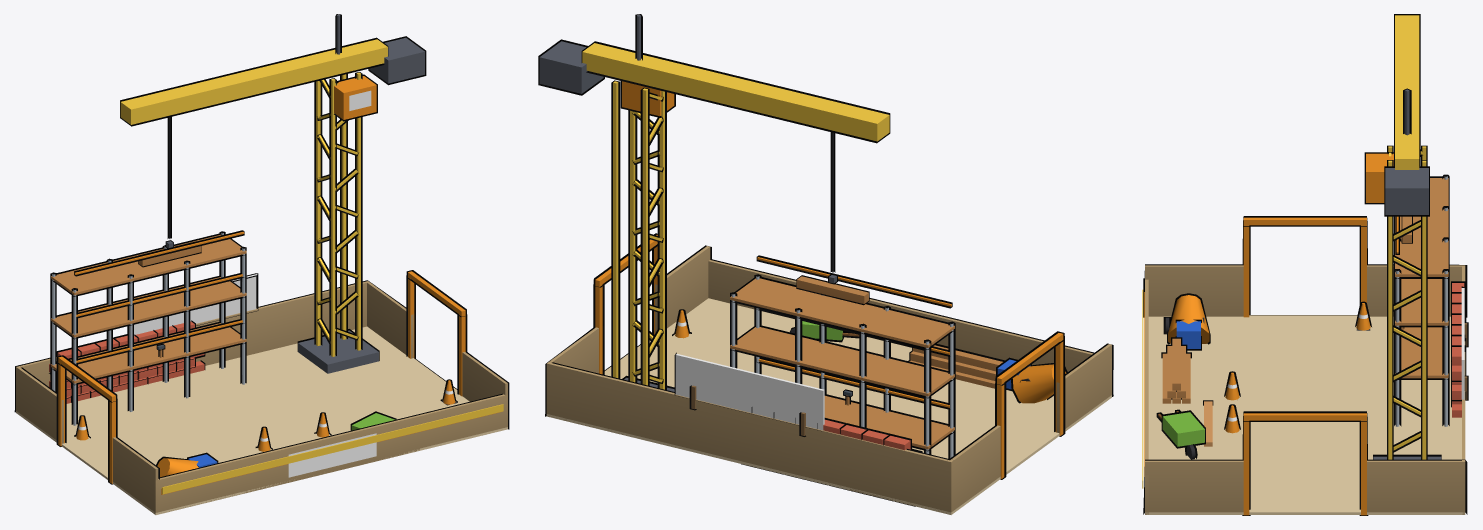
File: BR_Box_Baustelle.glb
3 views of the same model, side by side, from view 1: azimuth 30°, elevation 25°; view 2: azimuth 150°, elevation 25°; view 3: azimuth 270°, elevation 25° (orthographic). The views are drawn at different scales.
Visible parts, largest first — view 1: BR_Box_Baustelle_Mesh, BR_Box_Baustelle_Outline; view 2: BR_Box_Baustelle_Mesh, BR_Box_Baustelle_Outline, Prop_Kranlast; view 3: BR_Box_Baustelle_Mesh, BR_Box_Baustelle_Outline, Prop_Balken.
Part boxes in pixels (bbox=[...]): BR_Box_Baustelle_Mesh: bbox=[16, 14, 507, 514]; BR_Box_Baustelle_Outline: bbox=[14, 14, 509, 484]; BR_Box_Baustelle_Mesh: bbox=[539, 15, 1111, 514]; BR_Box_Baustelle_Outline: bbox=[538, 14, 1113, 506]; Prop_Kranlast: bbox=[796, 275, 868, 303]; BR_Box_Baustelle_Mesh: bbox=[1142, 15, 1467, 515]; BR_Box_Baustelle_Outline: bbox=[1143, 14, 1468, 515]; Prop_Balken: bbox=[1204, 401, 1212, 446].
Bounding box in the file's own units: 10.27 × 9.13 × 6.73.
